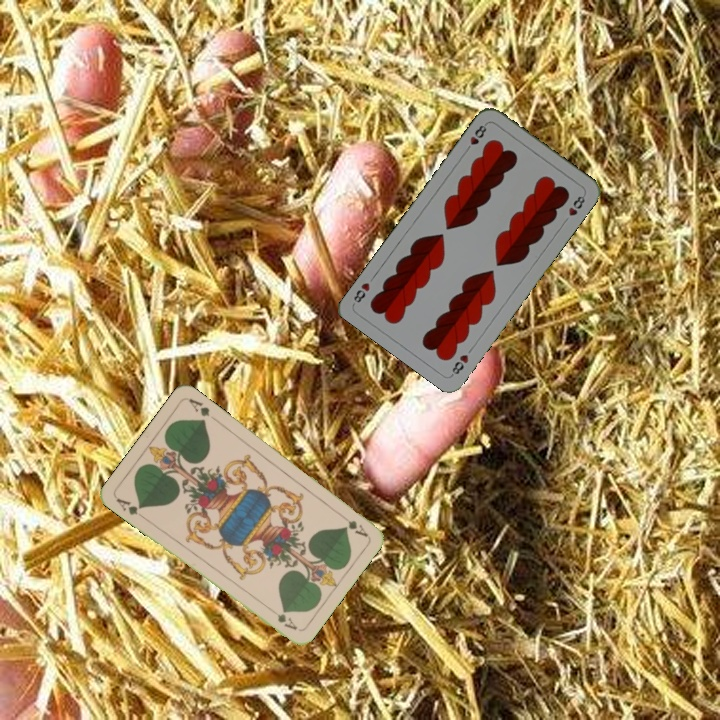GA: (335, 509, 370, 539), (112, 494, 148, 521)
H8: (461, 119, 490, 155), (447, 350, 471, 378)
